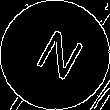N_SW: (25, 23, 85, 87)
